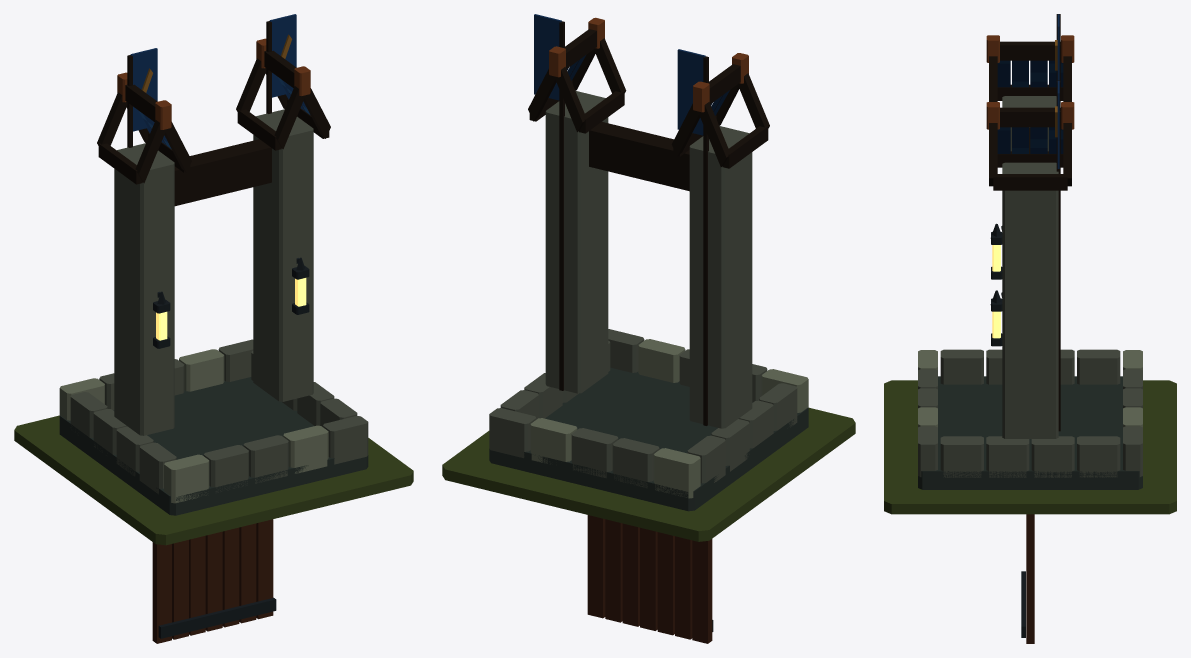
The model's file is gate_t4.glb.
3 renders of one model, left to right at view 1: azimuth 30°, elevation 25°; view 2: azimuth 150°, elevation 25°; view 3: azimuth 270°, elevation 25°, orthographic. The views are drawn at different scales.
Visible parts, largest first — view 1: MMR | gate | T04 Architecture.001, MMR | gate | Tier 04 Ground.001, MMR | gate | T04 Lift Gate.001; view 2: MMR | gate | T04 Architecture.001, MMR | gate | Tier 04 Ground.001, MMR | gate | T04 Lift Gate.001; view 3: MMR | gate | T04 Architecture.001, MMR | gate | Tier 04 Ground.001, MMR | gate | T04 Lift Gate.001.
Boxes of the visible parts, x1,y1,x2,y2 form: MMR | gate | T04 Architecture.001: (59, 14, 368, 515); MMR | gate | Tier 04 Ground.001: (14, 415, 413, 545); MMR | gate | T04 Lift Gate.001: (152, 519, 276, 643); MMR | gate | T04 Architecture.001: (489, 14, 808, 511); MMR | gate | Tier 04 Ground.001: (442, 407, 855, 541); MMR | gate | T04 Lift Gate.001: (587, 515, 713, 643); MMR | gate | T04 Architecture.001: (918, 14, 1142, 489); MMR | gate | Tier 04 Ground.001: (884, 380, 1176, 514); MMR | gate | T04 Lift Gate.001: (1021, 514, 1034, 643).
Size of the model in its own units: 1.3 by 2.79 by 1.3.
Materials: 2 (1 with a texture image).
